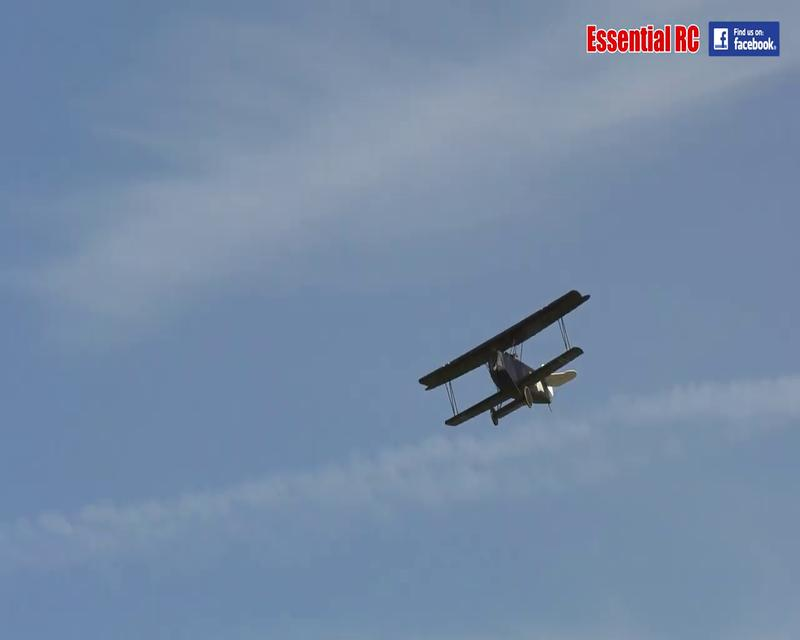UAV: (417, 288, 591, 427), (585, 22, 700, 54)
